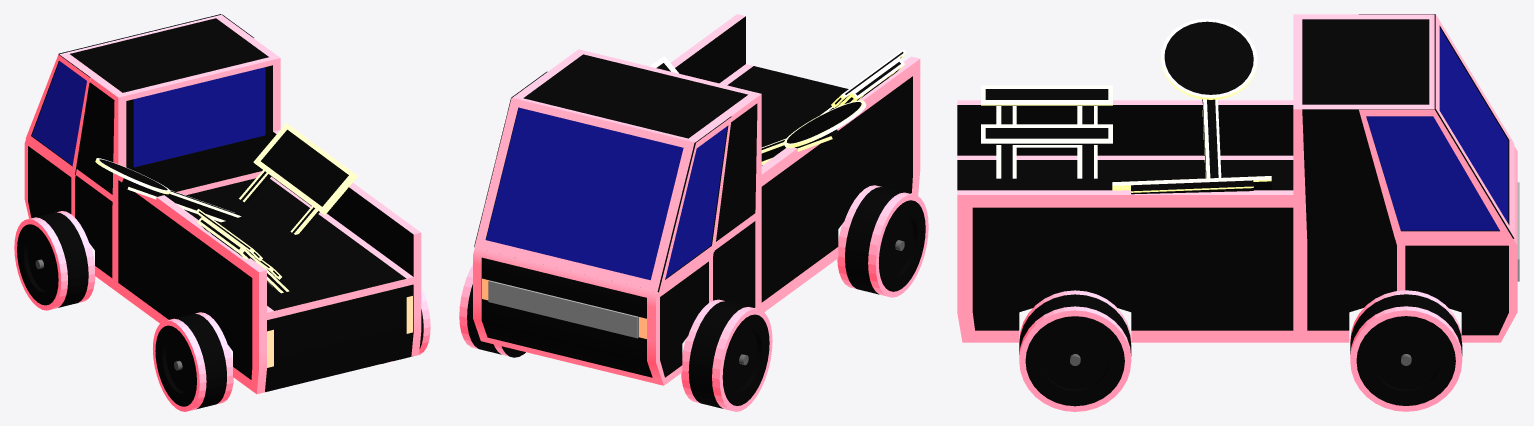
Rendered from Level_2_Boss (1).fbx.
3 renders of one model, left to right at view 1: azimuth 30°, elevation 25°; view 2: azimuth 150°, elevation 25°; view 3: azimuth 270°, elevation 25°, orthographic. The views are drawn at different scales.
Parts seen in each view (by area): view 1: Cube, Tyre.002, Tyre.003, Cube.002, Cube.001, Cube.003, Tyre.001; view 2: Cube, Tyre.003, Tyre.002, Cube.001, Tyre, Cube.003; view 3: Cube, Tyre, Tyre.001, Cube.003, Cube.001, Cube.002.
Boxes of the visible parts, box(x1,y1,x2,y2) form: Cube: box(24, 14, 421, 394); Tyre.002: box(14, 211, 95, 310); Tyre.003: box(153, 312, 233, 411); Cube.002: box(239, 123, 357, 234); Cube.001: box(95, 158, 241, 222); Cube.003: box(196, 209, 289, 293); Tyre.001: box(382, 287, 430, 363); Cube: box(473, 14, 920, 385); Tyre.003: box(837, 185, 928, 297); Tyre.002: box(681, 299, 772, 411); Cube.001: box(761, 100, 866, 164); Tyre: box(459, 265, 525, 357); Cube.003: box(821, 49, 906, 114); Cube: box(957, 14, 1519, 342); Tyre: box(1350, 290, 1462, 411); Tyre.001: box(1019, 290, 1131, 411); Cube.003: box(981, 85, 1112, 178); Cube.001: box(1160, 18, 1257, 178); Cube.002: box(1112, 176, 1271, 194).
Size of the model in its own units: 307 by 278 by 502.
